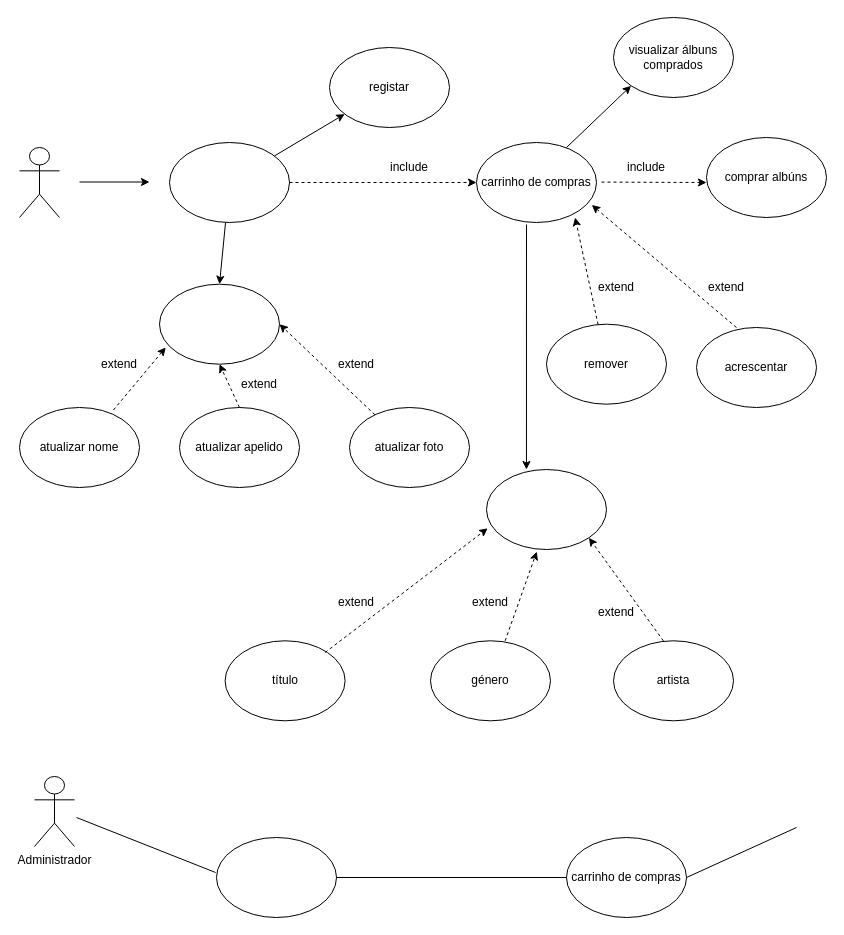
This 844x935 diagram has some shape labels left out. Here are the shapes that lost their labels. From the top down, the box of each, then its label:
(18, 146, 60, 218): Cliente
(168, 142, 290, 222): login
(158, 283, 280, 364): editar perfil
(486, 468, 606, 550): pesquisar álbuns
(216, 836, 336, 918): dados do cliente
